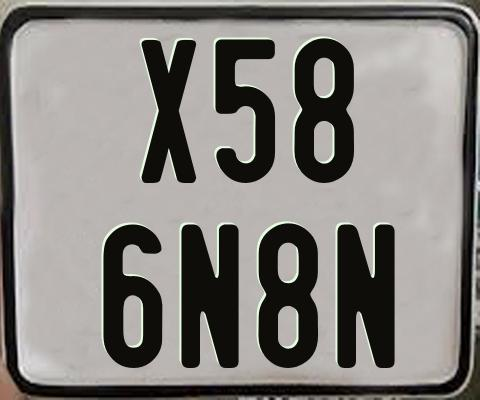5: (215, 39, 276, 186)
6: (103, 225, 166, 370)
8: (294, 35, 358, 182), (257, 222, 317, 367)
N: (180, 224, 243, 371), (335, 224, 393, 370)
X: (140, 38, 196, 185)
